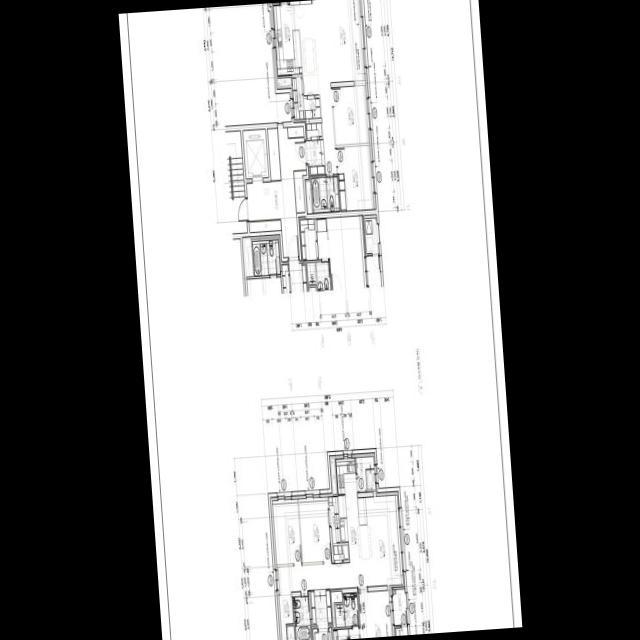background: (118, 0, 522, 640)
space_balconi: (393, 588, 407, 624)
space_bedroom: (336, 144, 374, 210), (332, 84, 369, 144), (298, 496, 331, 562), (272, 498, 302, 563), (357, 589, 393, 638)
space_dressroom: (328, 496, 340, 542), (333, 628, 348, 640), (349, 627, 359, 639)
space_elevator: (243, 128, 268, 182)
space_elevator_hall: (246, 127, 306, 256)
space_front: (305, 122, 325, 174), (310, 588, 332, 628)
space_kitchen: (336, 457, 362, 562), (273, 4, 302, 74)
space_living_room: (289, 0, 365, 173), (289, 494, 403, 591)
space_multipurpose_space: (356, 456, 375, 491)
space_other: (276, 565, 293, 640), (267, 127, 280, 180), (292, 73, 305, 118), (294, 170, 306, 211), (303, 94, 321, 118), (331, 590, 342, 626), (249, 219, 281, 231), (330, 458, 337, 493), (333, 544, 348, 559), (305, 181, 312, 212), (287, 126, 303, 137), (277, 77, 291, 85), (287, 625, 294, 640)
space_outdoor_room: (395, 626, 408, 635)
space_toilet: (311, 175, 339, 212), (292, 595, 311, 640), (335, 592, 358, 626)
